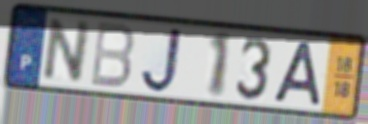1: (205, 30, 234, 100)
3: (234, 35, 273, 103)
A: (271, 40, 324, 109)
B: (88, 20, 137, 92)
J: (138, 25, 185, 95)
N: (39, 16, 94, 85)
